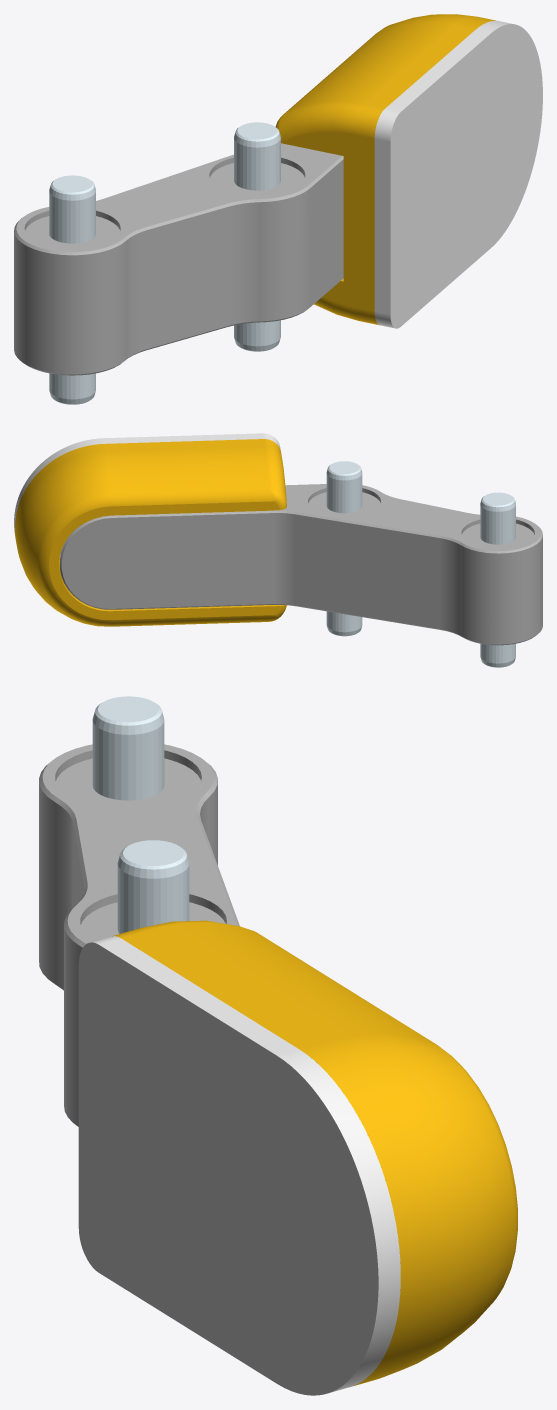
Rendered from rg2_finger.dae.
The picture shows the model from 3 angles, top to bottom: view 1: azimuth 30°, elevation 25°; view 2: azimuth 150°, elevation 25°; view 3: azimuth 270°, elevation 25°; orthographic projection. The views are drawn at different scales.
Visible parts, largest first — view 1: LeftFinger, FingerTipPlateRight, Finger, Axle.001, Axle; view 2: LeftFinger, Finger, Axle, Axle.001, FingerTipPlateRight; view 3: FingerTipPlateRight, Finger, LeftFinger, Axle.001, Axle.
Boxes of the visible parts, x1=… form: LeftFinger: x1=14, y1=143, x2=343, y2=375; FingerTipPlateRight: x1=374, y1=20, x2=542, y2=328; Finger: x1=275, y1=14, x2=497, y2=325; Axle.001: x1=49, y1=175, x2=95, y2=404; Axle: x1=234, y1=122, x2=280, y2=351; LeftFinger: x1=59, y1=484, x2=542, y2=645; Finger: x1=15, y1=439, x2=286, y2=626; Axle: x1=326, y1=461, x2=362, y2=636; Axle.001: x1=480, y1=492, x2=515, y2=667; FingerTipPlateRight: x1=14, y1=433, x2=280, y2=535; FingerTipPlateRight: x1=78, y1=936, x2=400, y2=1395; Finger: x1=112, y1=920, x2=517, y2=1386; LeftFinger: x1=39, y1=744, x2=239, y2=1126; Axle.001: x1=92, y1=696, x2=164, y2=800; Axle: x1=117, y1=840, x2=189, y2=933.
Size of the model in its own units: 0.0593 by 0.0267 by 0.0202.
